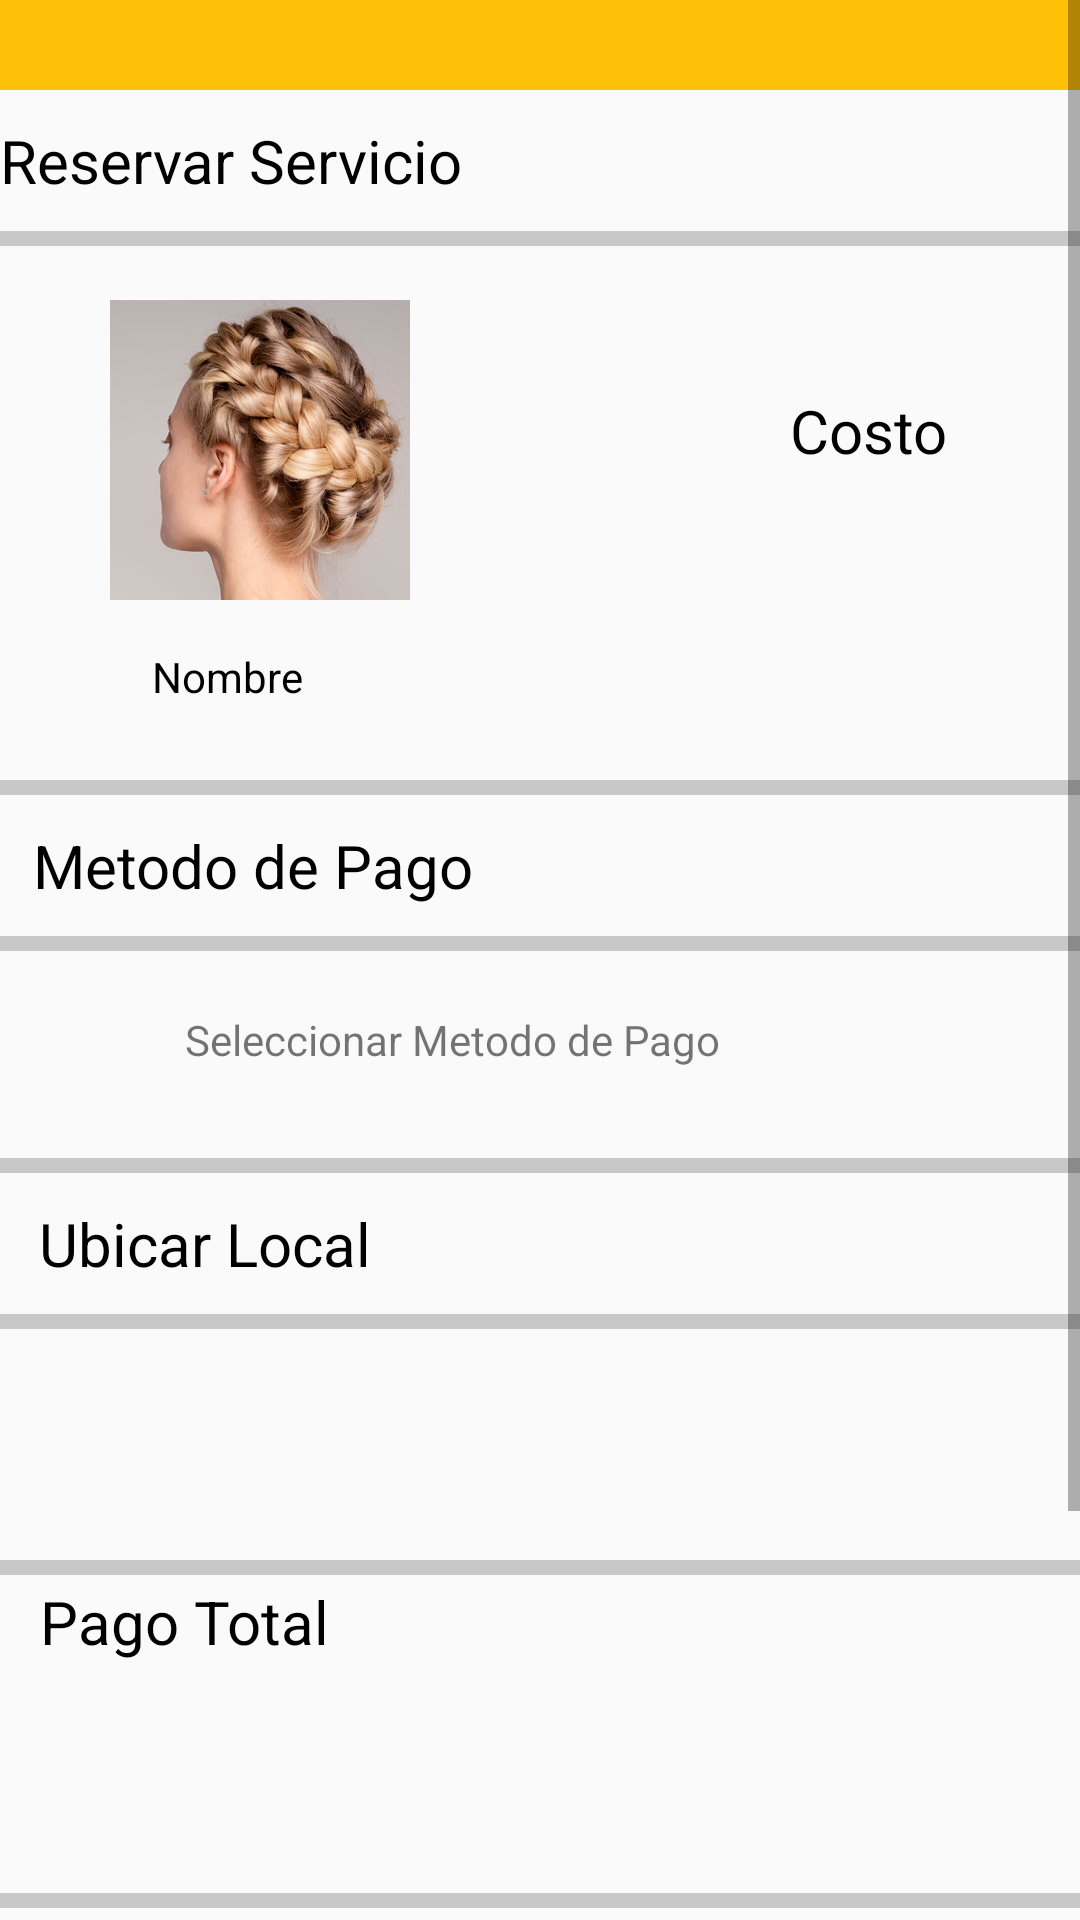

Where to tap for icons on this 1080×1920 app screen, as (x=x, y=y):
servicio peinado boda: (x=260, y=450)
